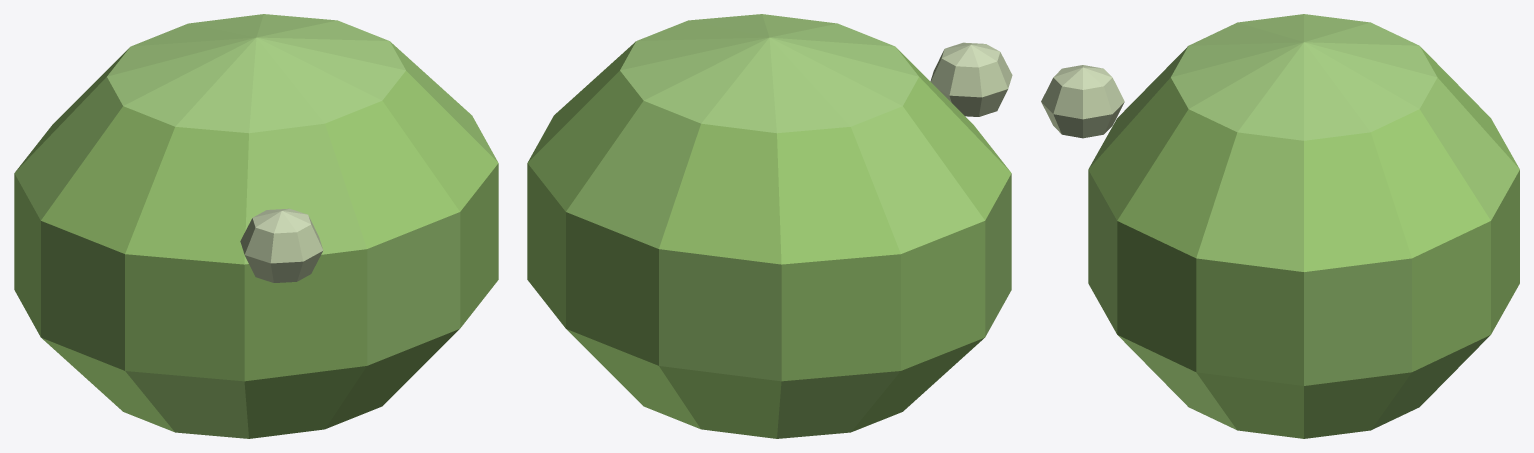
The model's file is Slime_Core.glb.
3 renders of one model, left to right at view 1: azimuth 30°, elevation 25°; view 2: azimuth 150°, elevation 25°; view 3: azimuth 270°, elevation 25°, orthographic. The views are drawn at different scales.
Visible parts, largest first — view 1: Goo_Core; view 2: Goo_Core; view 3: Goo_Core.
Boxes of the visible parts, box(x1,y1,x2,y2) form: Goo_Core: box(14, 14, 498, 438); Goo_Core: box(527, 14, 1012, 438); Goo_Core: box(1041, 14, 1519, 438).
Size of the model in its own units: 0.6368 by 0.5332 by 0.628.
